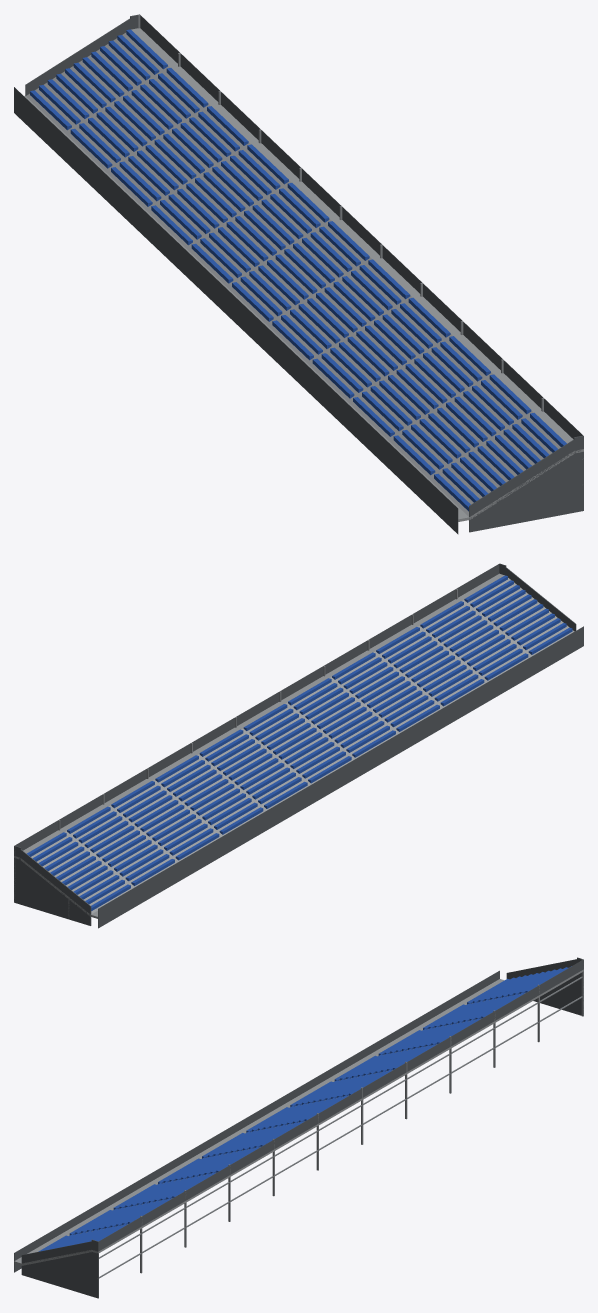
The model's file is mza_stand_alta_a.glb.
The picture shows the model from 3 angles, top to bottom: view 1: azimuth 30°, elevation 25°; view 2: azimuth 150°, elevation 25°; view 3: azimuth 330°, elevation 25°; orthographic projection. The views are drawn at different scales.
Visible parts, largest first — view 1: monza-alta-a; view 2: monza-alta-a; view 3: monza-alta-a.
Part boxes in pixels (x1,y1,x2,y2): monza-alta-a: (14,14,583,534); monza-alta-a: (14,563,583,928); monza-alta-a: (14,957,583,1298).
Size of the model in its own units: 21.03 by 6.92 by 92.11.
